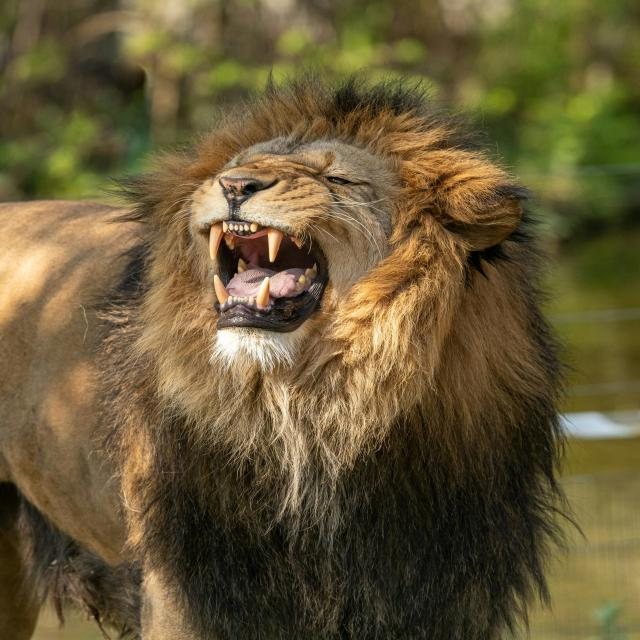Lion: (0, 67, 565, 640)
